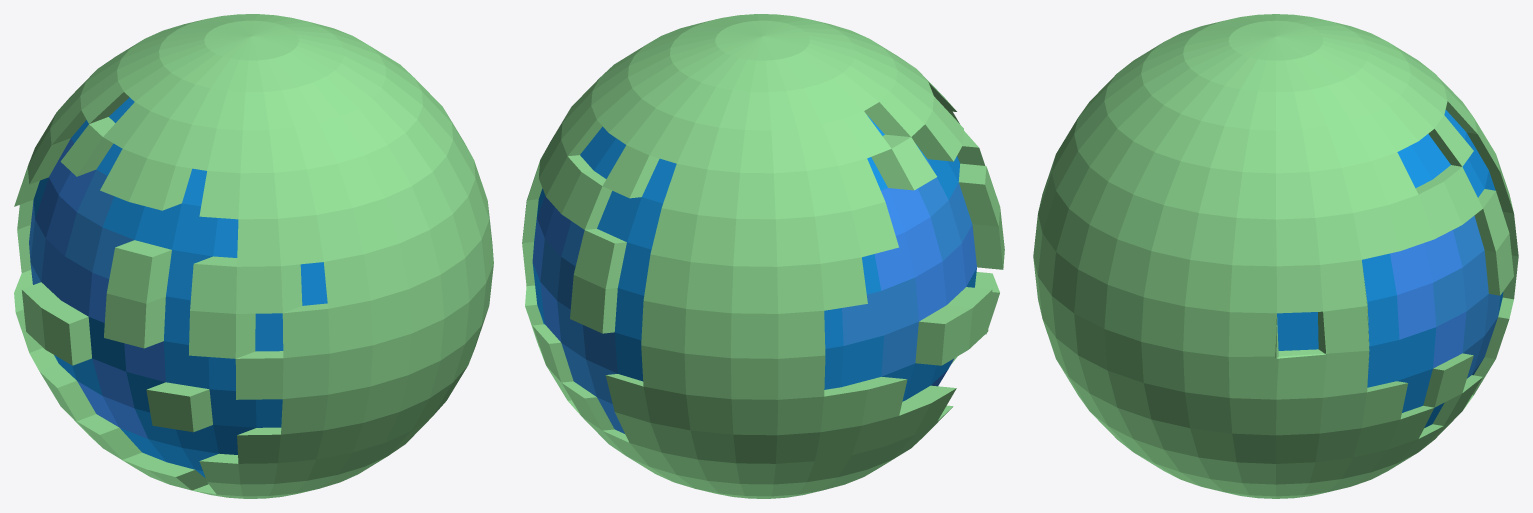
File: earth.glb
3 views of the same model, side by side, from view 1: azimuth 30°, elevation 25°; view 2: azimuth 150°, elevation 25°; view 3: azimuth 270°, elevation 25° (orthographic).
Parts seen in each view (by area): view 1: Sphere; view 2: Sphere; view 3: Sphere.
Boxes of the visible parts, left/top/right/bottom form: Sphere: left=14, top=14, right=493, bottom=498; Sphere: left=522, top=14, right=1004, bottom=498; Sphere: left=1033, top=14, right=1518, bottom=498.
Size of the model in its own units: 7.41 by 7.41 by 7.41.
